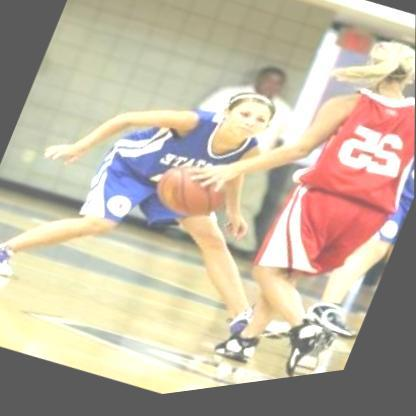basketball: (146, 151, 237, 241)
